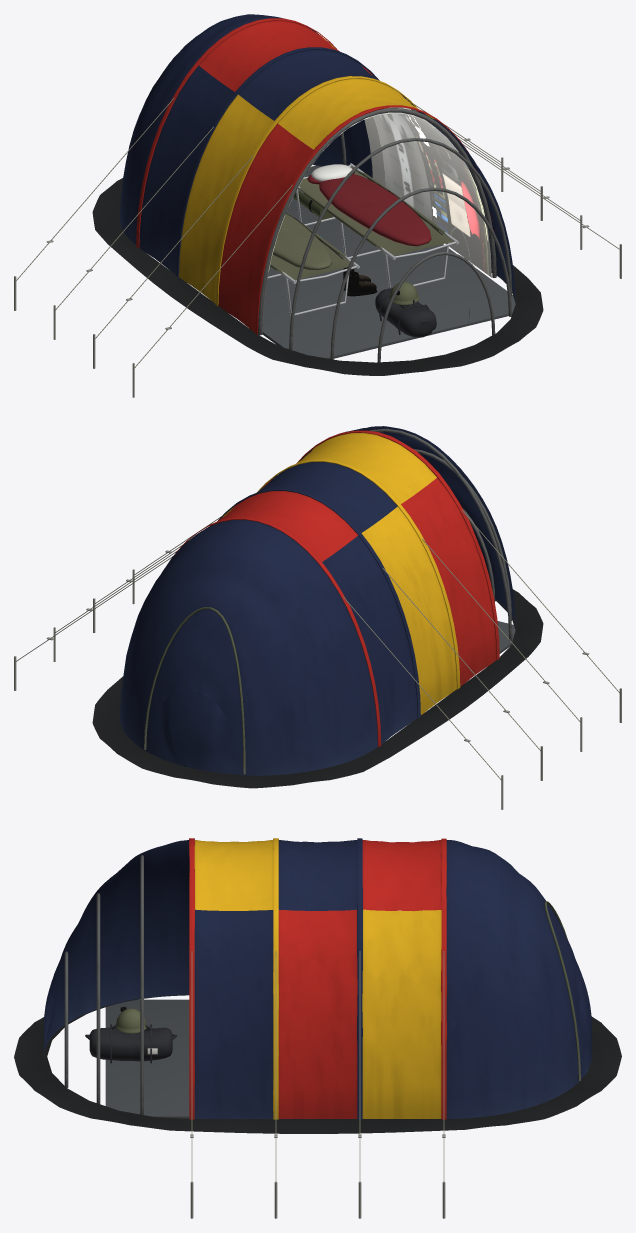
Rendered from endurance-deployed-fitted-web.glb.
3 renders of one model, top to bottom at view 1: azimuth 30°, elevation 25°; view 2: azimuth 150°, elevation 25°; view 3: azimuth 270°, elevation 25°, orthographic. The views are drawn at different scales.
Parts seen in each view (by area): view 1: ENDURANCE_shelter, ENDURANCE_fitout, ENDURANCE_interior; view 2: ENDURANCE_shelter; view 3: ENDURANCE_shelter, ENDURANCE_fitout.
Boxes of the visible parts, x1,y1,x2,y2 form: ENDURANCE_shelter: [14, 14, 621, 397]; ENDURANCE_fitout: [267, 163, 459, 337]; ENDURANCE_interior: [262, 107, 491, 333]; ENDURANCE_shelter: [14, 426, 621, 809]; ENDURANCE_shelter: [14, 838, 621, 1218]; ENDURANCE_fitout: [85, 1006, 176, 1063].
Bounding box in the file's own units: 5.42 × 2.44 × 5.49.
32 materials, 18 textured.
